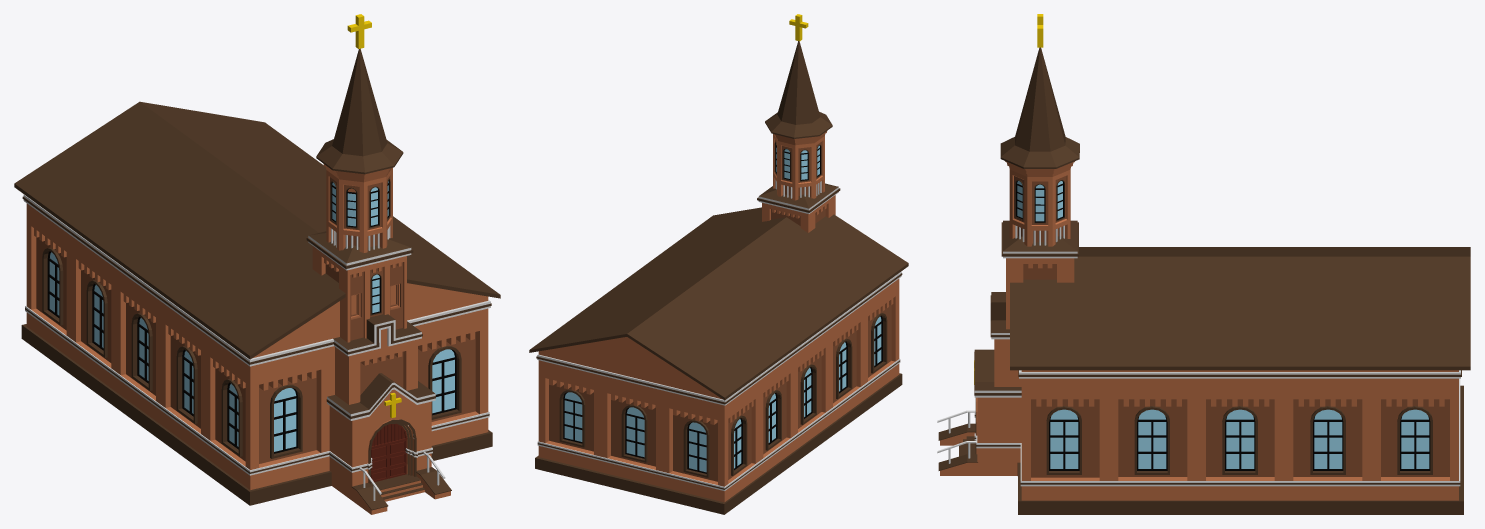
Rendered from Chapel.fbx.
3 views of the same model, side by side, from view 1: azimuth 30°, elevation 25°; view 2: azimuth 150°, elevation 25°; view 3: azimuth 270°, elevation 25° (orthographic). The views are drawn at different scales.
Parts seen in each view (by area): view 1: Roof, Main, Details, Dark Brown, White, Windows, Frame, Door, Gold; view 2: Roof, Main, Details, Dark Brown, Windows, White, Frame; view 3: Roof, Main, Dark Brown, Details, Windows, White, Frame.
Boxes of the visible parts, x1,y1,x2,y2 form: Roof: [14, 48, 500, 413]; Main: [26, 164, 488, 514]; Details: [21, 178, 492, 510]; Dark Brown: [36, 175, 475, 463]; White: [23, 194, 490, 500]; Windows: [49, 181, 454, 451]; Frame: [47, 180, 456, 453]; Door: [371, 423, 407, 482]; Gold: [347, 14, 401, 417]; Roof: [529, 41, 908, 400]; Main: [538, 131, 899, 502]; Details: [535, 142, 902, 514]; Dark Brown: [549, 140, 891, 481]; Windows: [564, 145, 881, 472]; White: [537, 180, 901, 490]; Frame: [563, 143, 882, 473]; Roof: [974, 47, 1470, 390]; Main: [940, 161, 1458, 500]; Dark Brown: [1014, 176, 1449, 477]; Details: [938, 180, 1463, 514]; Windows: [1017, 181, 1429, 468]; White: [937, 225, 1460, 486]; Frame: [1016, 180, 1430, 470].
Bounding box in the file's own units: 2312 × 3984 × 4358.
